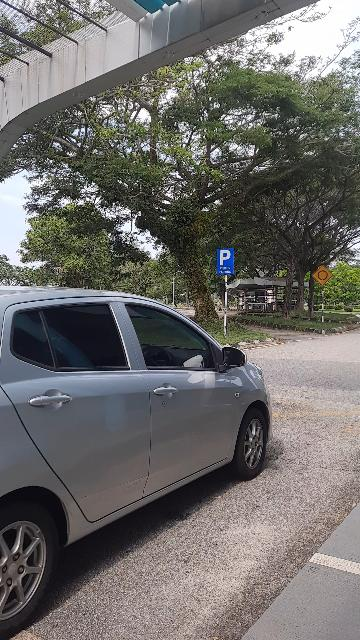car: (2, 273, 277, 636)
